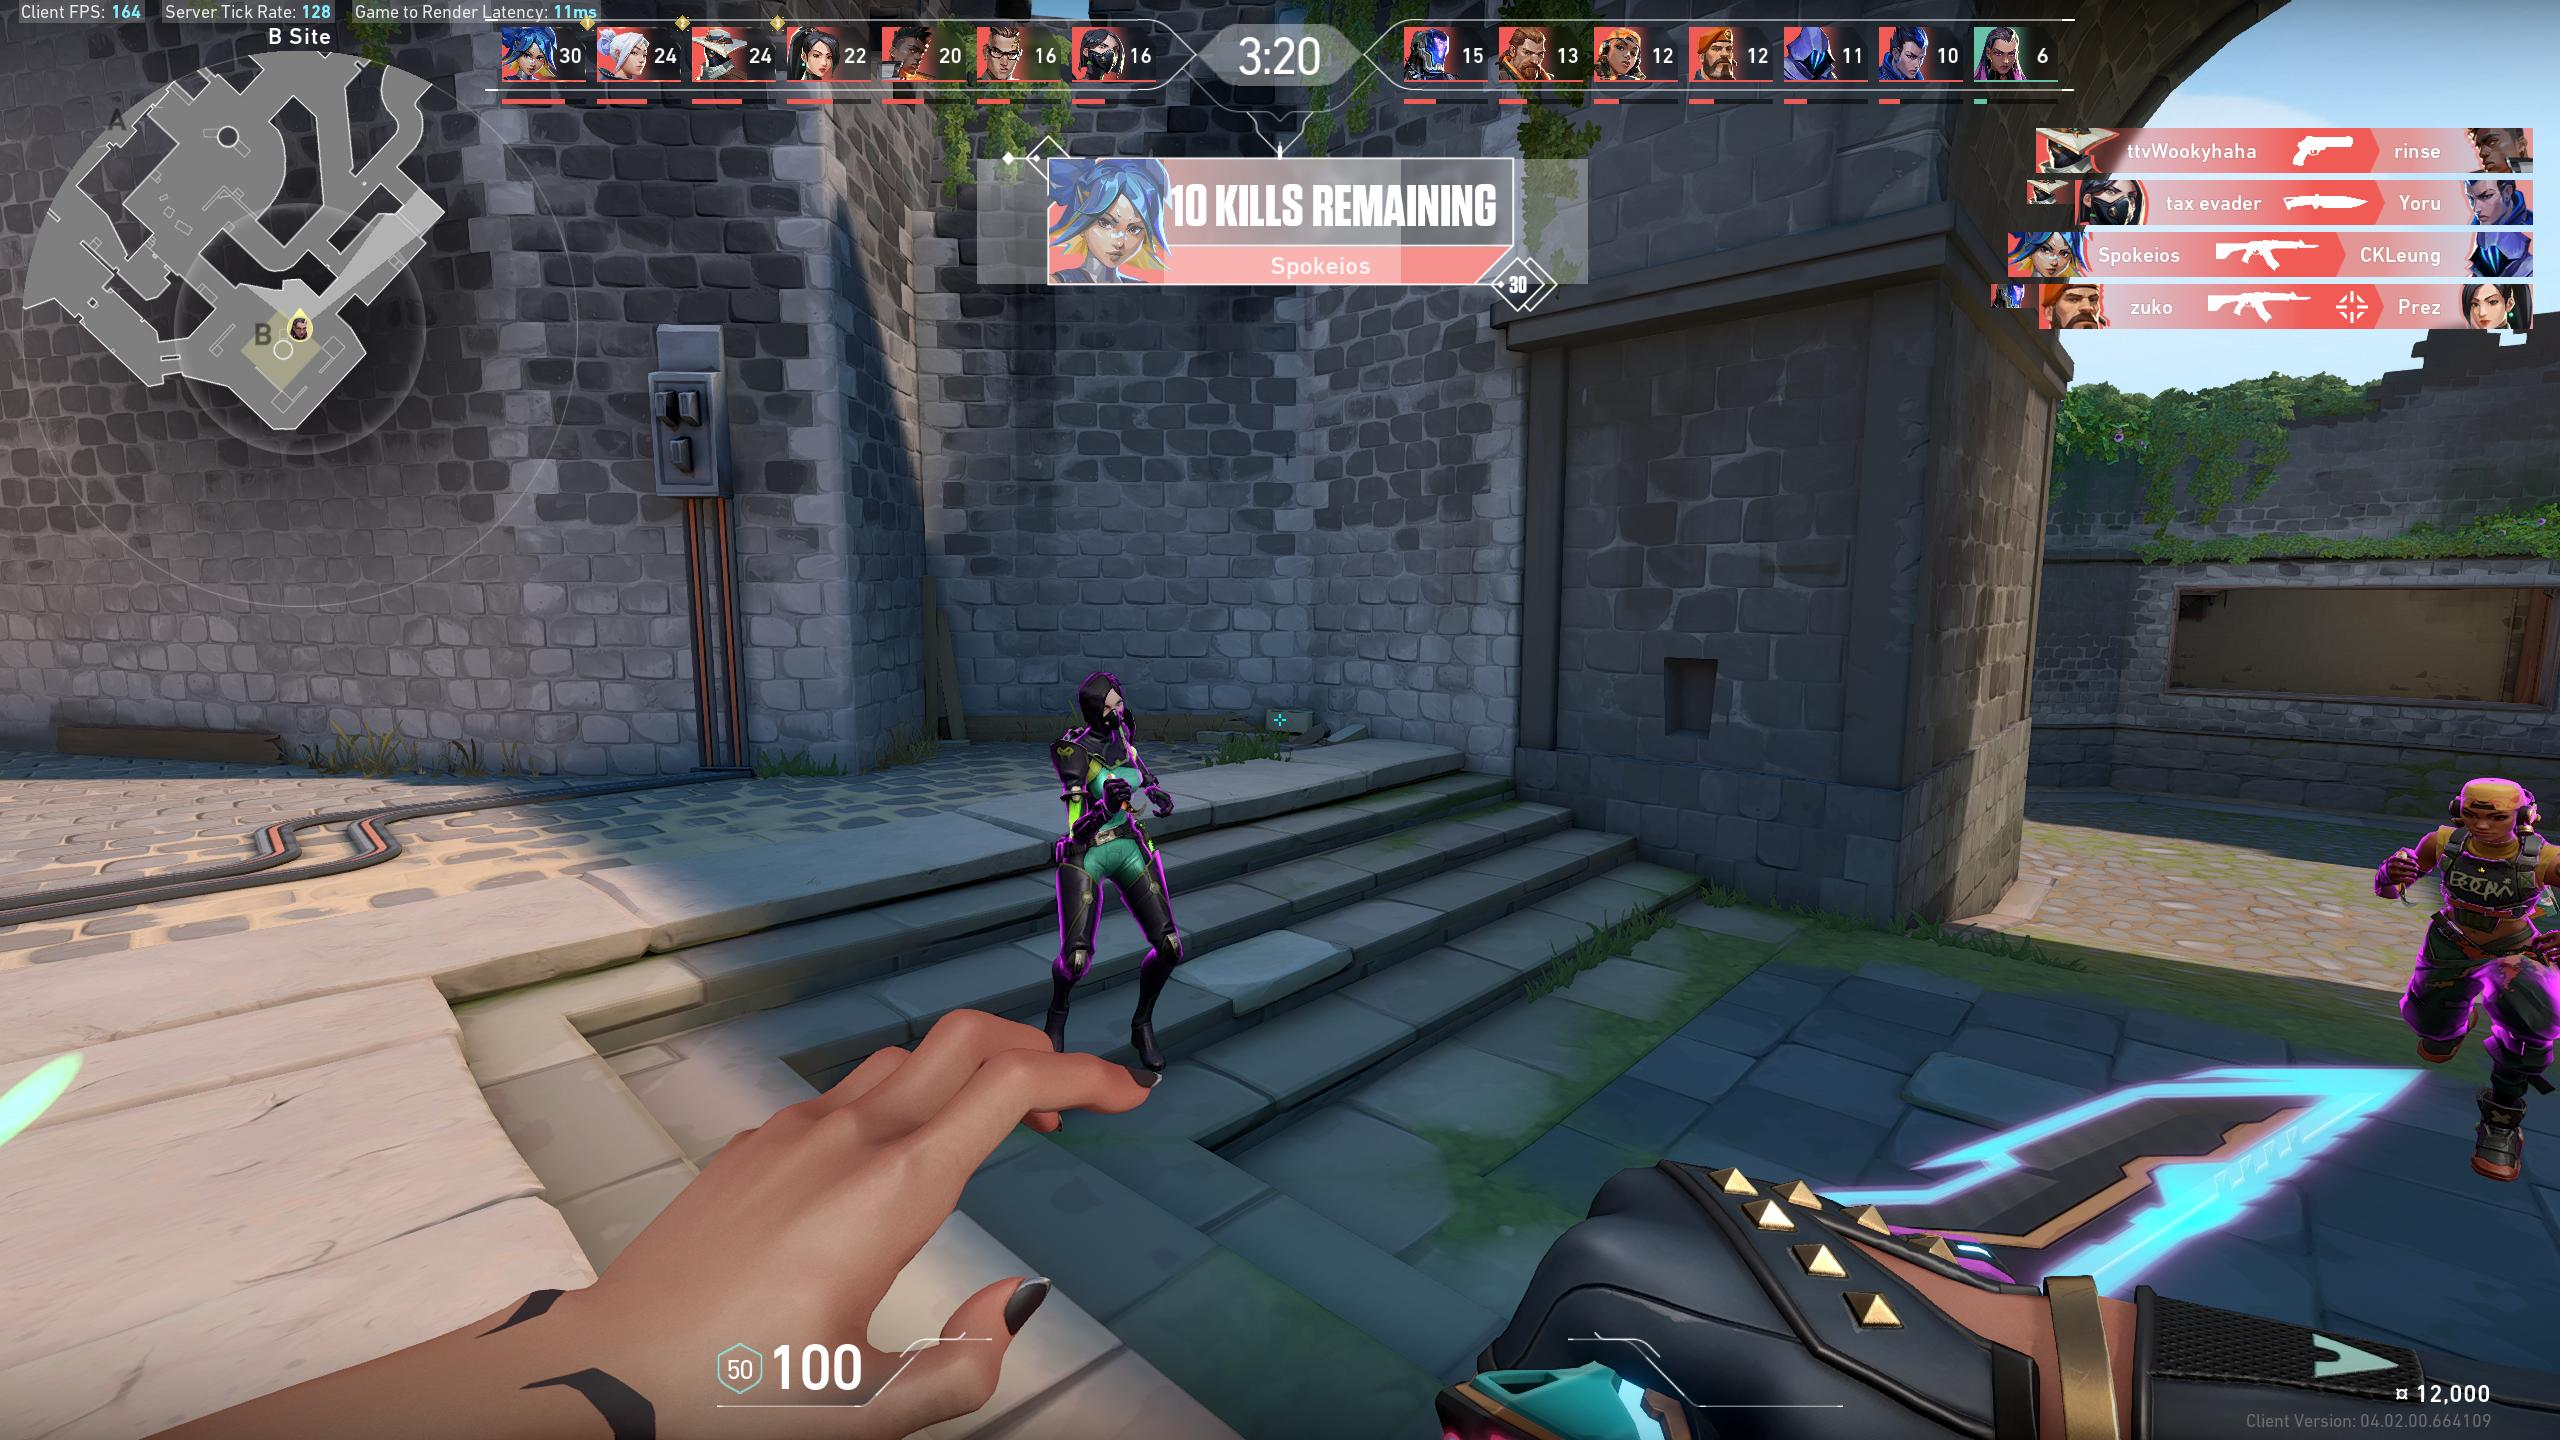enemyBody: (2462, 844, 2516, 932), (1074, 744, 1125, 819)
enemyHead: (2463, 789, 2514, 840), (1087, 680, 1120, 728)
